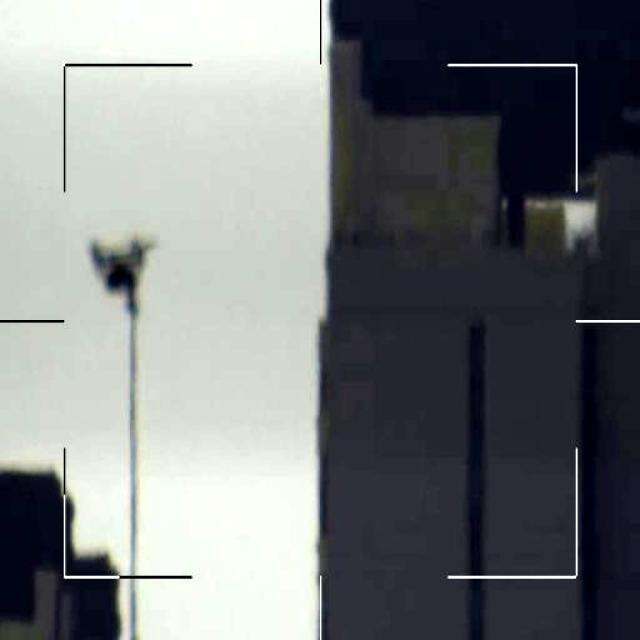bird: (85, 226, 149, 312)
